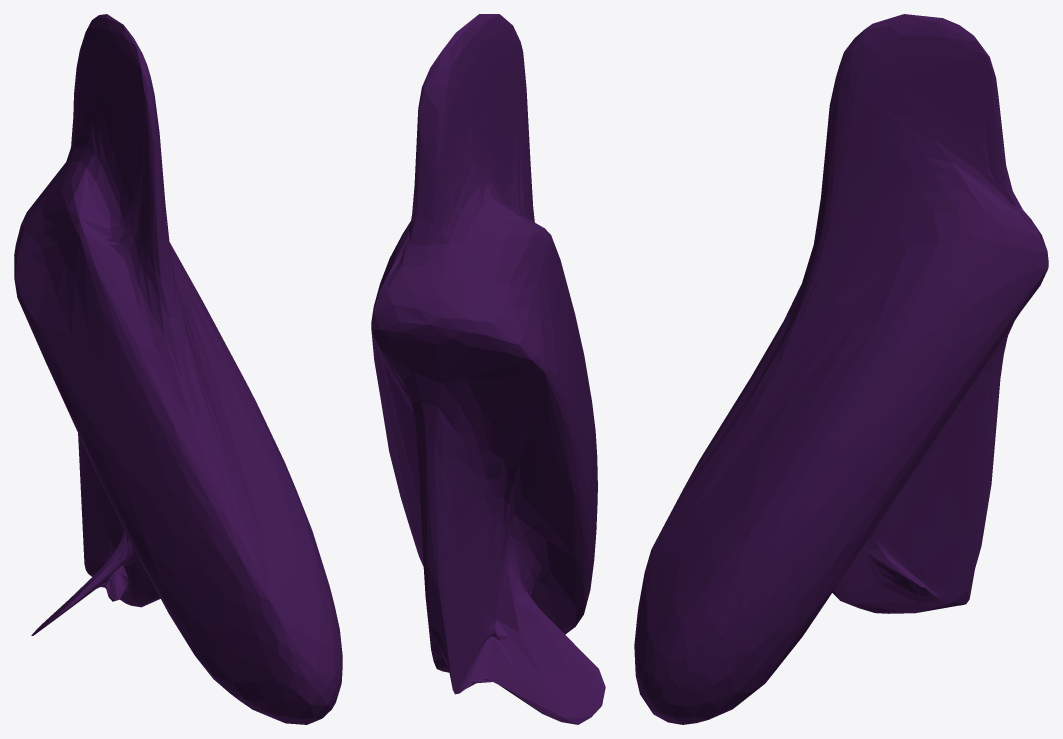
3 renders of one model, left to right at view 1: azimuth 30°, elevation 25°; view 2: azimuth 150°, elevation 25°; view 3: azimuth 270°, elevation 25°, orthographic. The views are drawn at different scales.
Parts seen in each view (by area): view 1: 626_Cube.2517; view 2: 626_Cube.2517; view 3: 626_Cube.2517.
Part boxes in pixels (<box>): 626_Cube.2517: <box>14,14,342,724</box>; 626_Cube.2517: <box>371,14,605,724</box>; 626_Cube.2517: <box>634,14,1048,724</box>.
Bounding box in the file's own units: 4.71 × 13.18 × 7.38.
